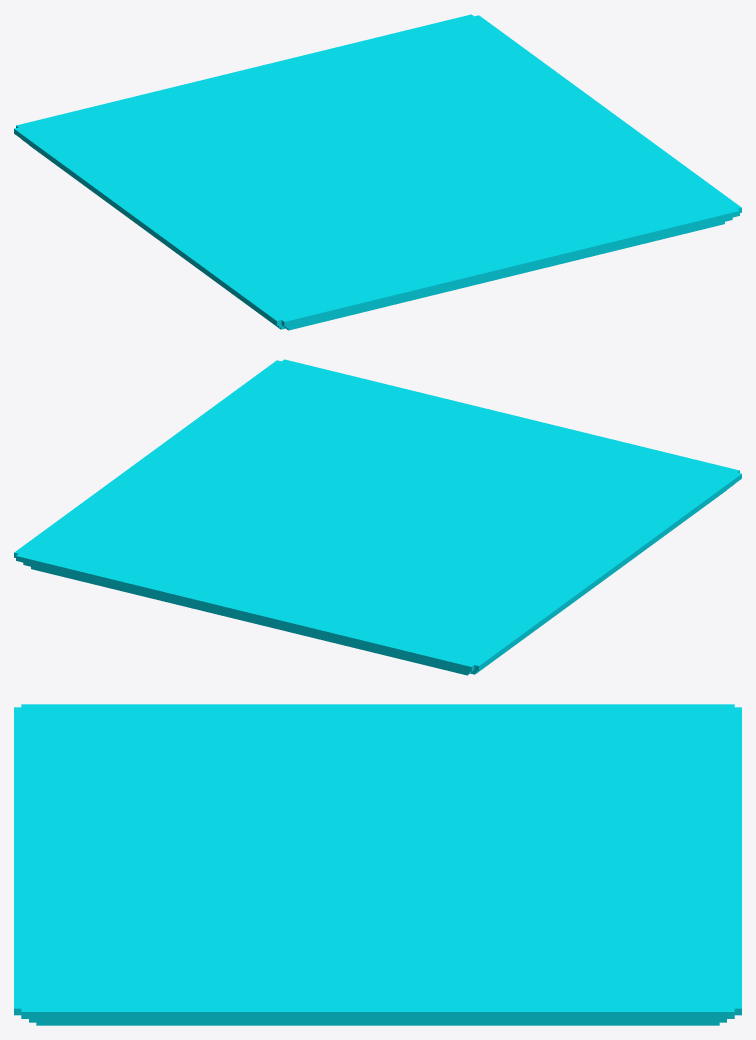
The model's file is Ceiling light.obj.
3 renders of one model, top to bottom at view 1: azimuth 30°, elevation 25°; view 2: azimuth 150°, elevation 25°; view 3: azimuth 270°, elevation 25°, orthographic. The views are drawn at different scales.
Size of the model in its own units: 98 by 3 by 98.
1 material, 1 textured.
